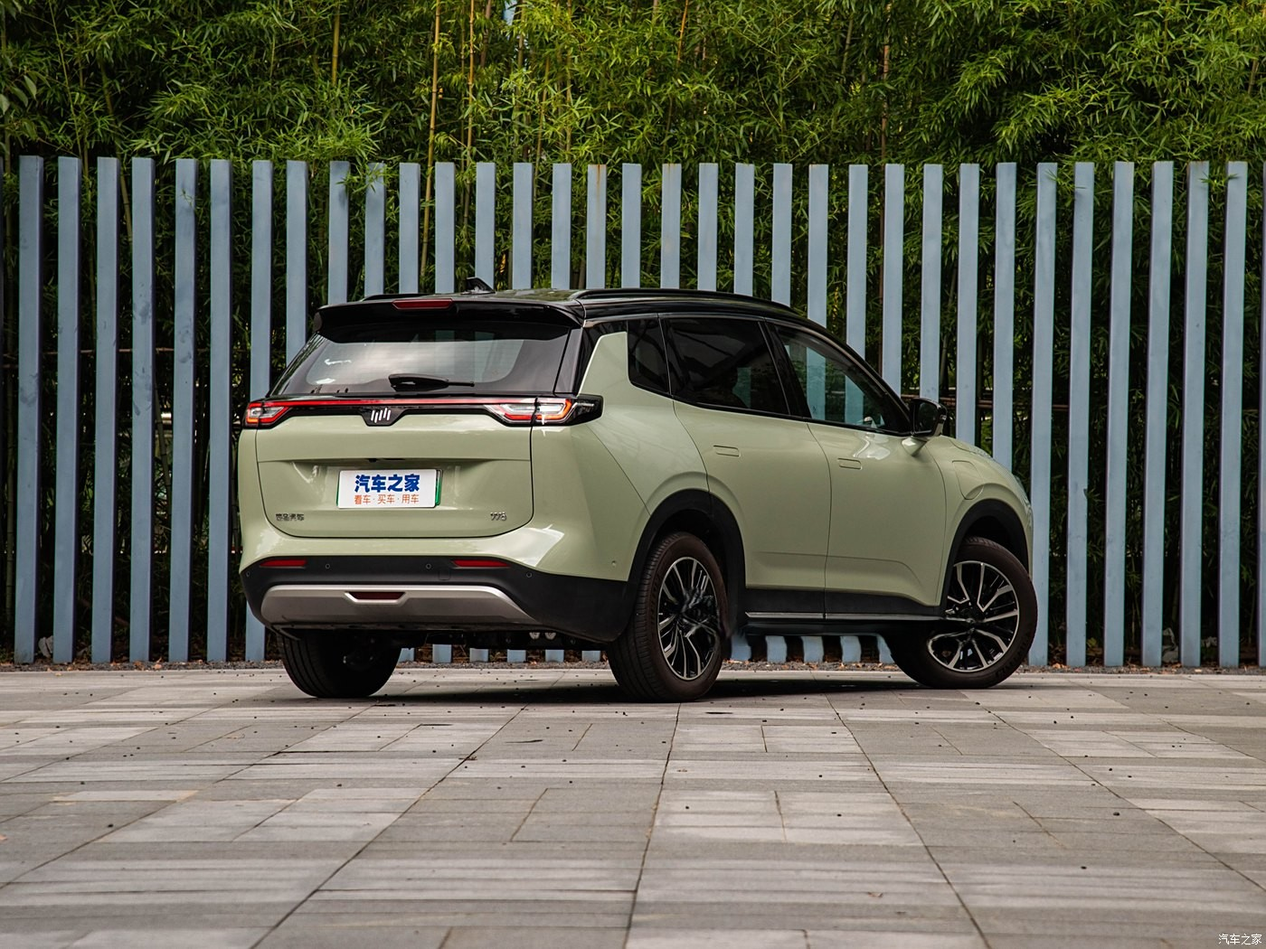WELTMEISTER: (372, 408, 391, 422)
